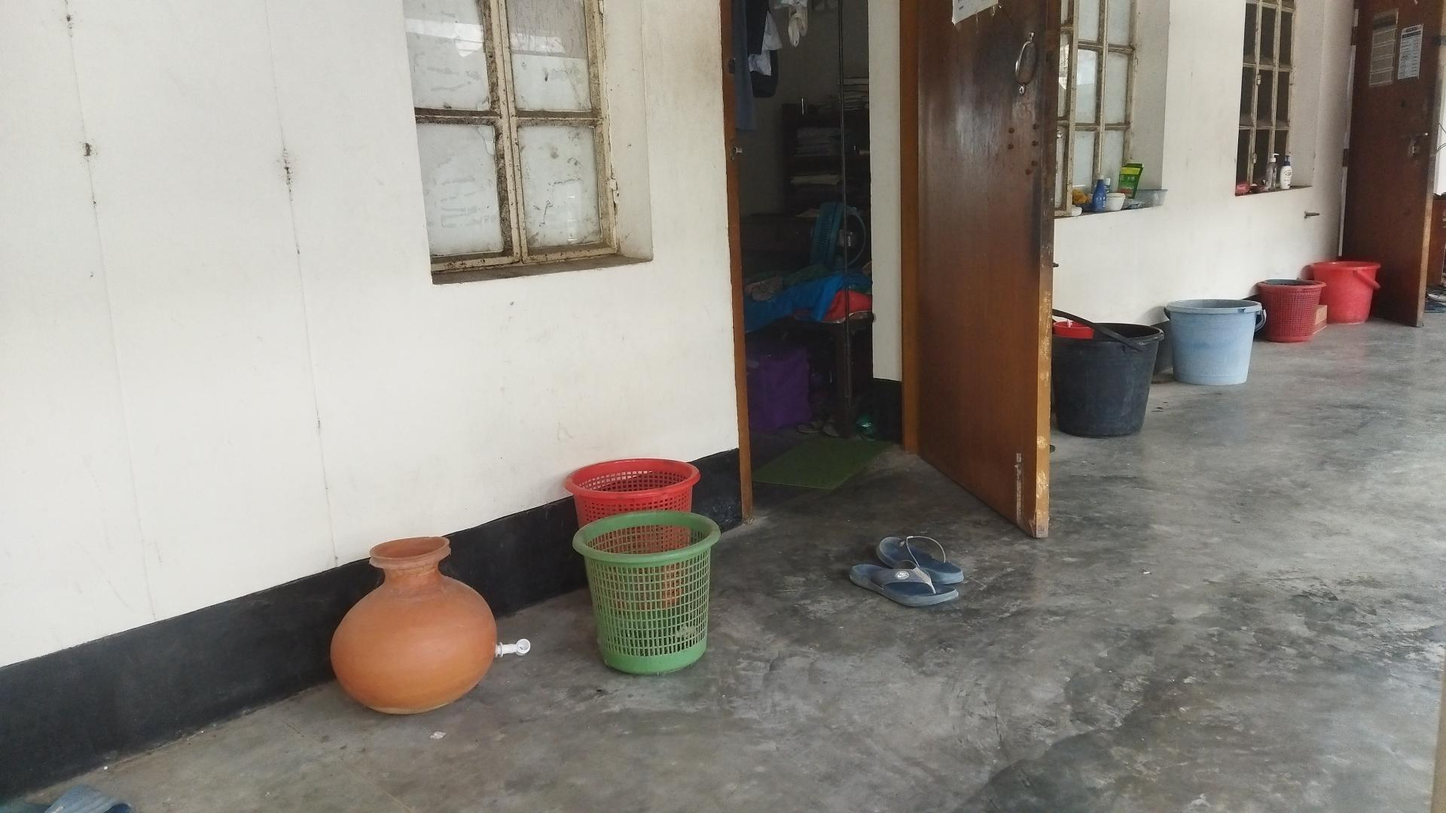Basket: (575, 493, 717, 690), (561, 455, 695, 596), (1255, 269, 1328, 349)
Bucket: (1050, 305, 1171, 436), (1157, 286, 1255, 384), (1298, 251, 1388, 325)
Door: (906, 3, 1065, 539)
Floor Mat: (751, 432, 900, 499)
Footwear: (862, 516, 968, 612)
